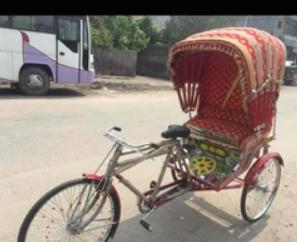Rickshaw: (17, 27, 286, 241)
